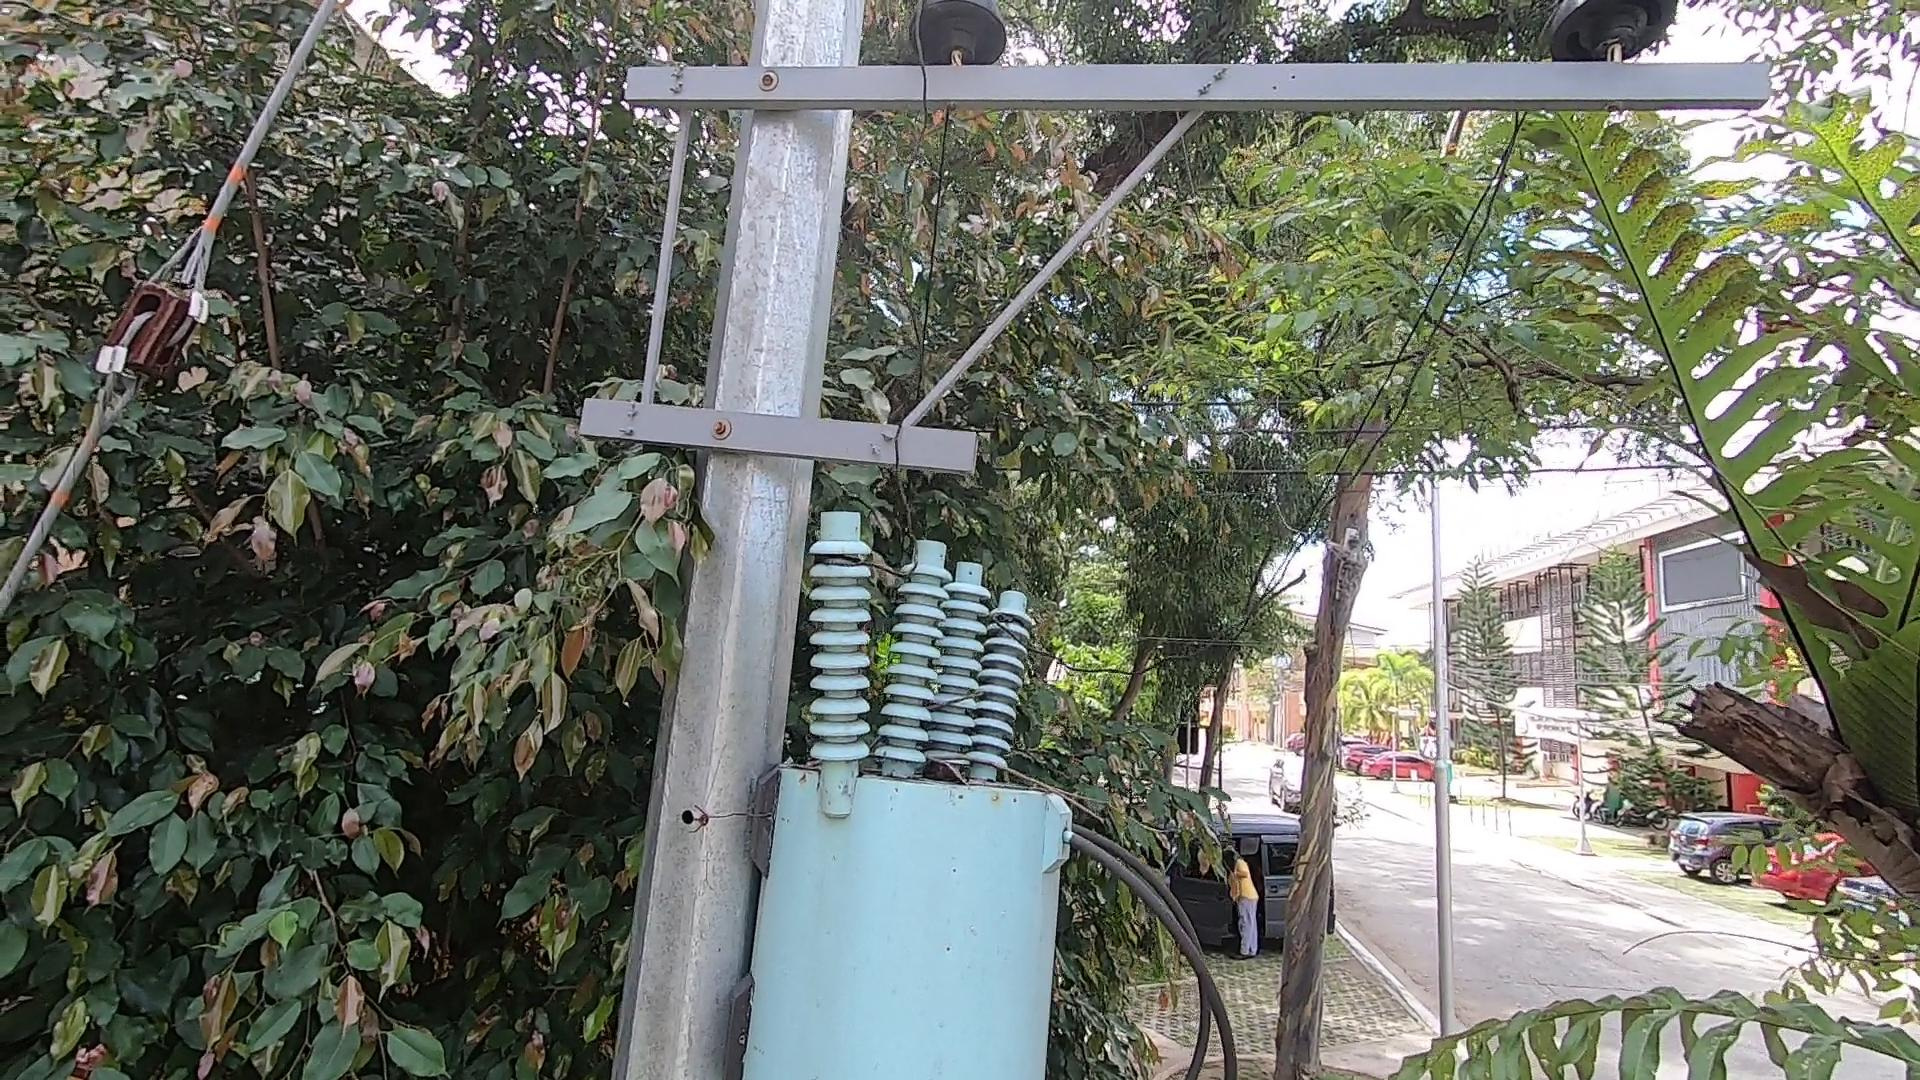leaf: (916, 753, 976, 794)
tree branch: (851, 731, 1124, 829)
